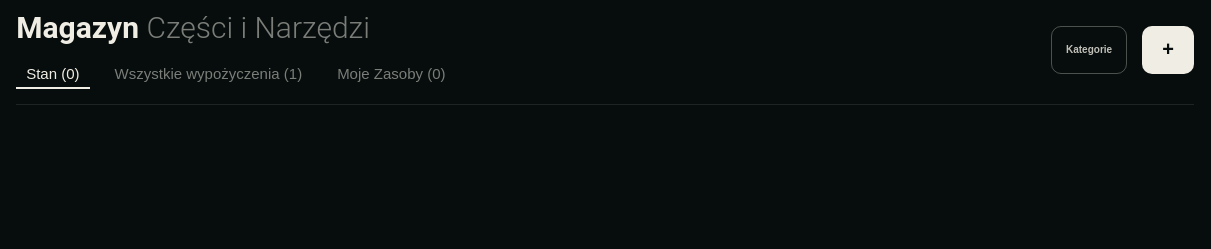
Scenario: InventoryPage › inny użytkownik widzi "W posiadaniu" zamiast Zwrot
The image size is (1211, 249).
Click the button "Wszystkie wypożyczenia (1)" at (208, 74), box [105,60,312,89]
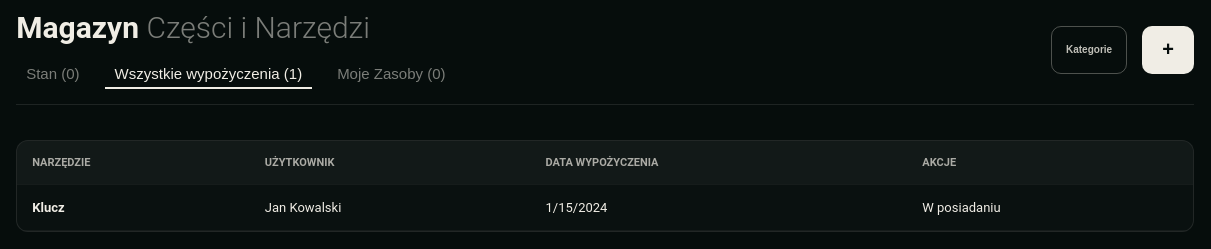
Expected: the text "W posiadaniu" is shown, [922,200,1001,215]
